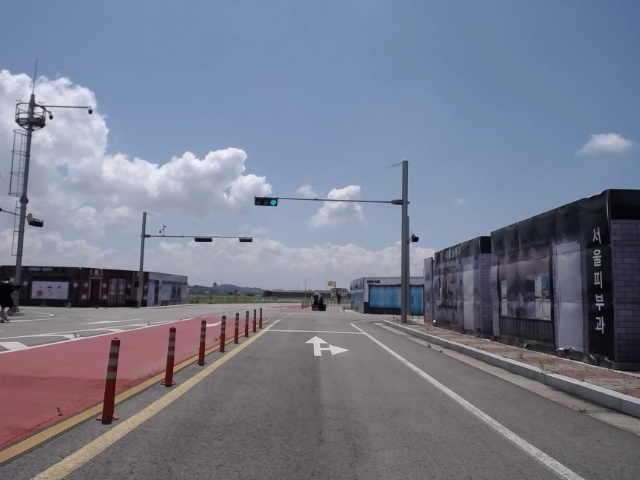green_3: (256, 197, 277, 206)
